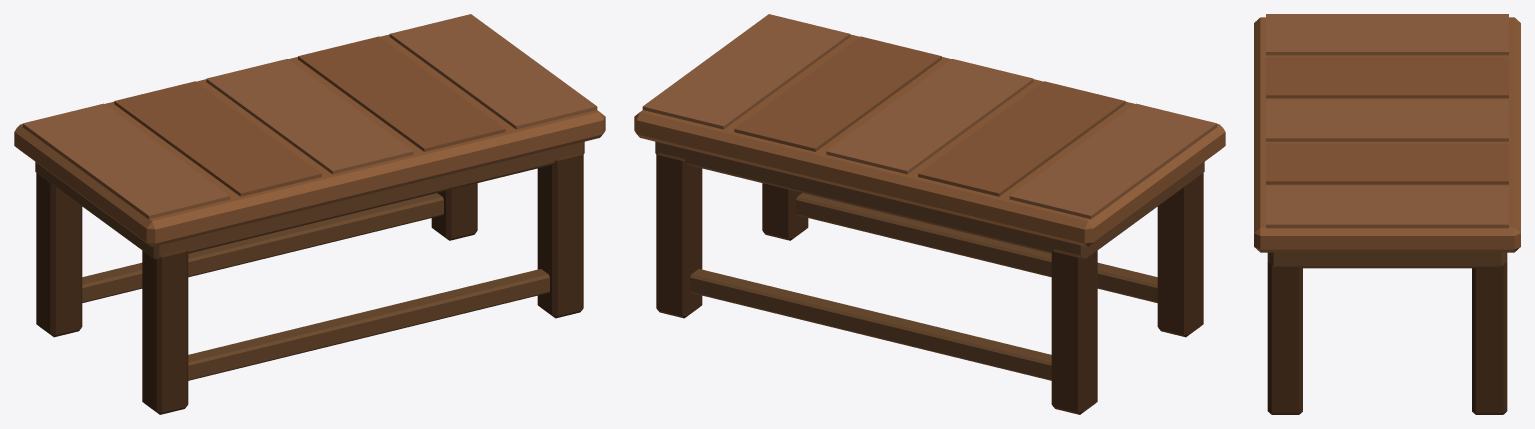
The model's file is Table.glb.
3 renders of one model, left to right at view 1: azimuth 30°, elevation 25°; view 2: azimuth 150°, elevation 25°; view 3: azimuth 270°, elevation 25°, orthographic. The views are drawn at different scales.
Visible parts, largest first — view 1: Body; view 2: Body; view 3: Body.
Boxes of the visible parts, left/top/right/bottom form: Body: left=14, top=14, right=605, bottom=414; Body: left=634, top=14, right=1225, bottom=414; Body: left=1254, top=14, right=1520, bottom=414.
Size of what is drawn, in the model's own units: 6.5 by 2.77 by 3.4.
